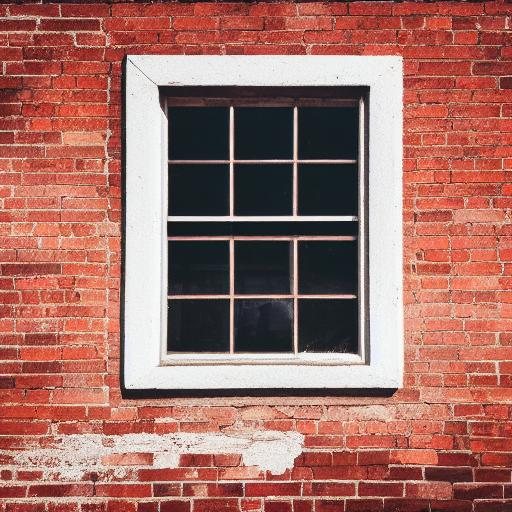Window: (122, 55, 404, 397)
